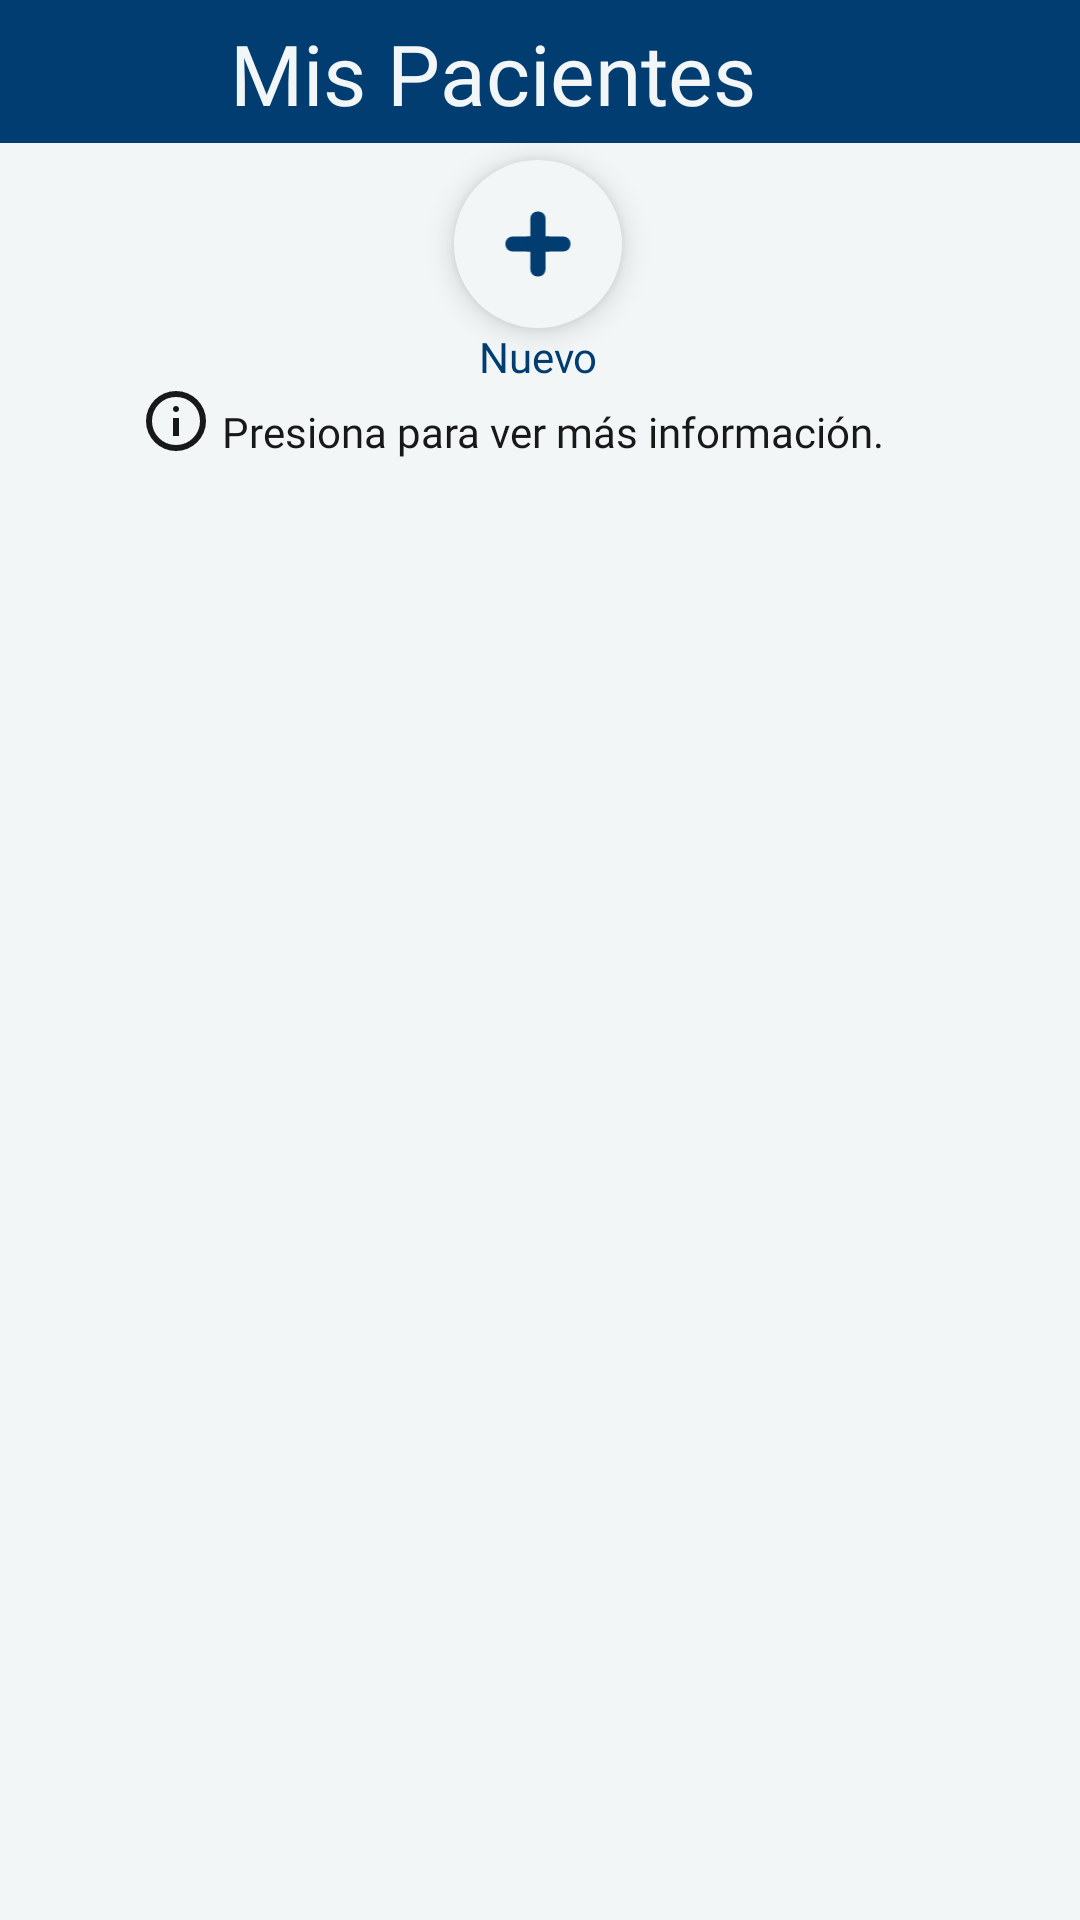

Screen size 1080w x 1920h. Icon name, then its box in pixels as (left=x1, top=y1, right=x2, bottom=y2):
agregar: (left=454, top=211, right=622, bottom=328)
